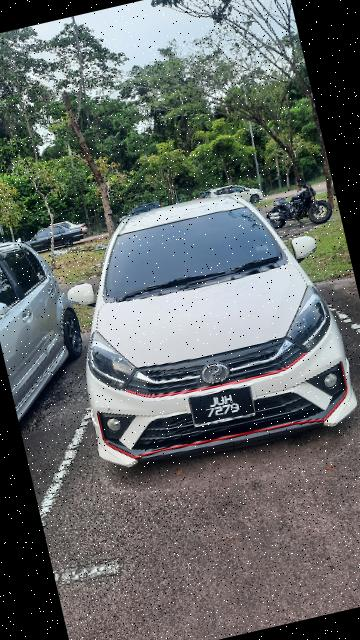License_Plate: (182, 378, 264, 438)
car: (46, 168, 360, 489)
